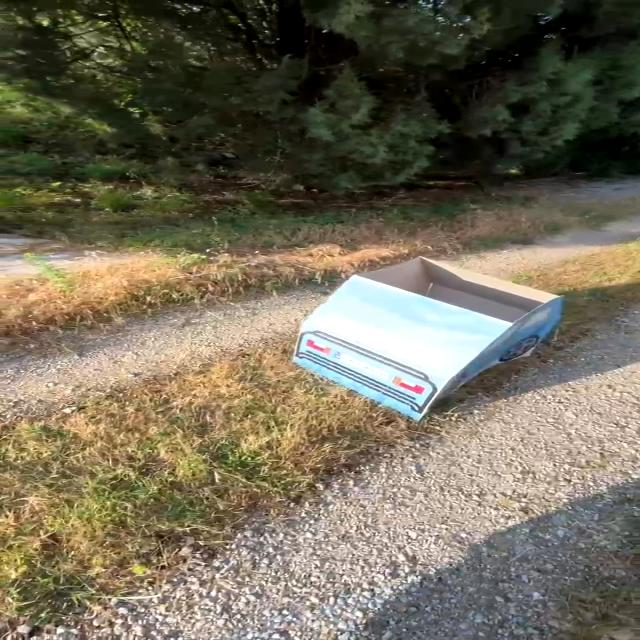blue_car: (256, 246, 606, 437)
